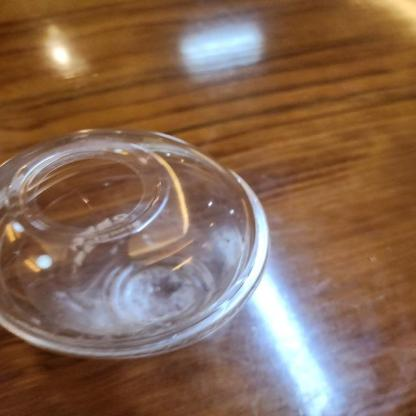Others: (0, 127, 270, 362)
